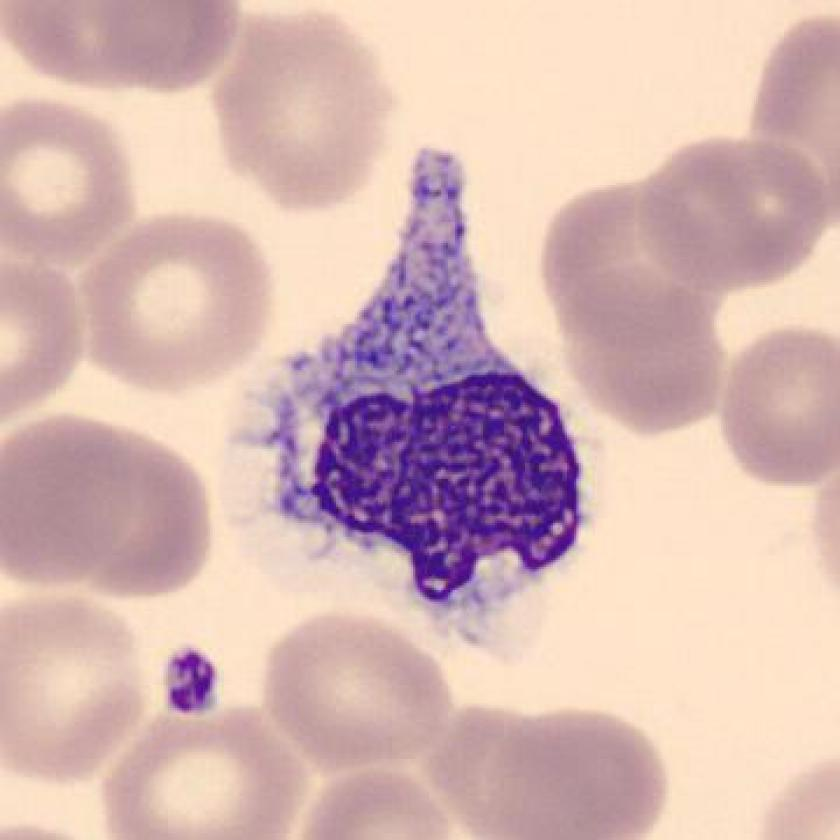monocyte: (227, 121, 617, 677)
